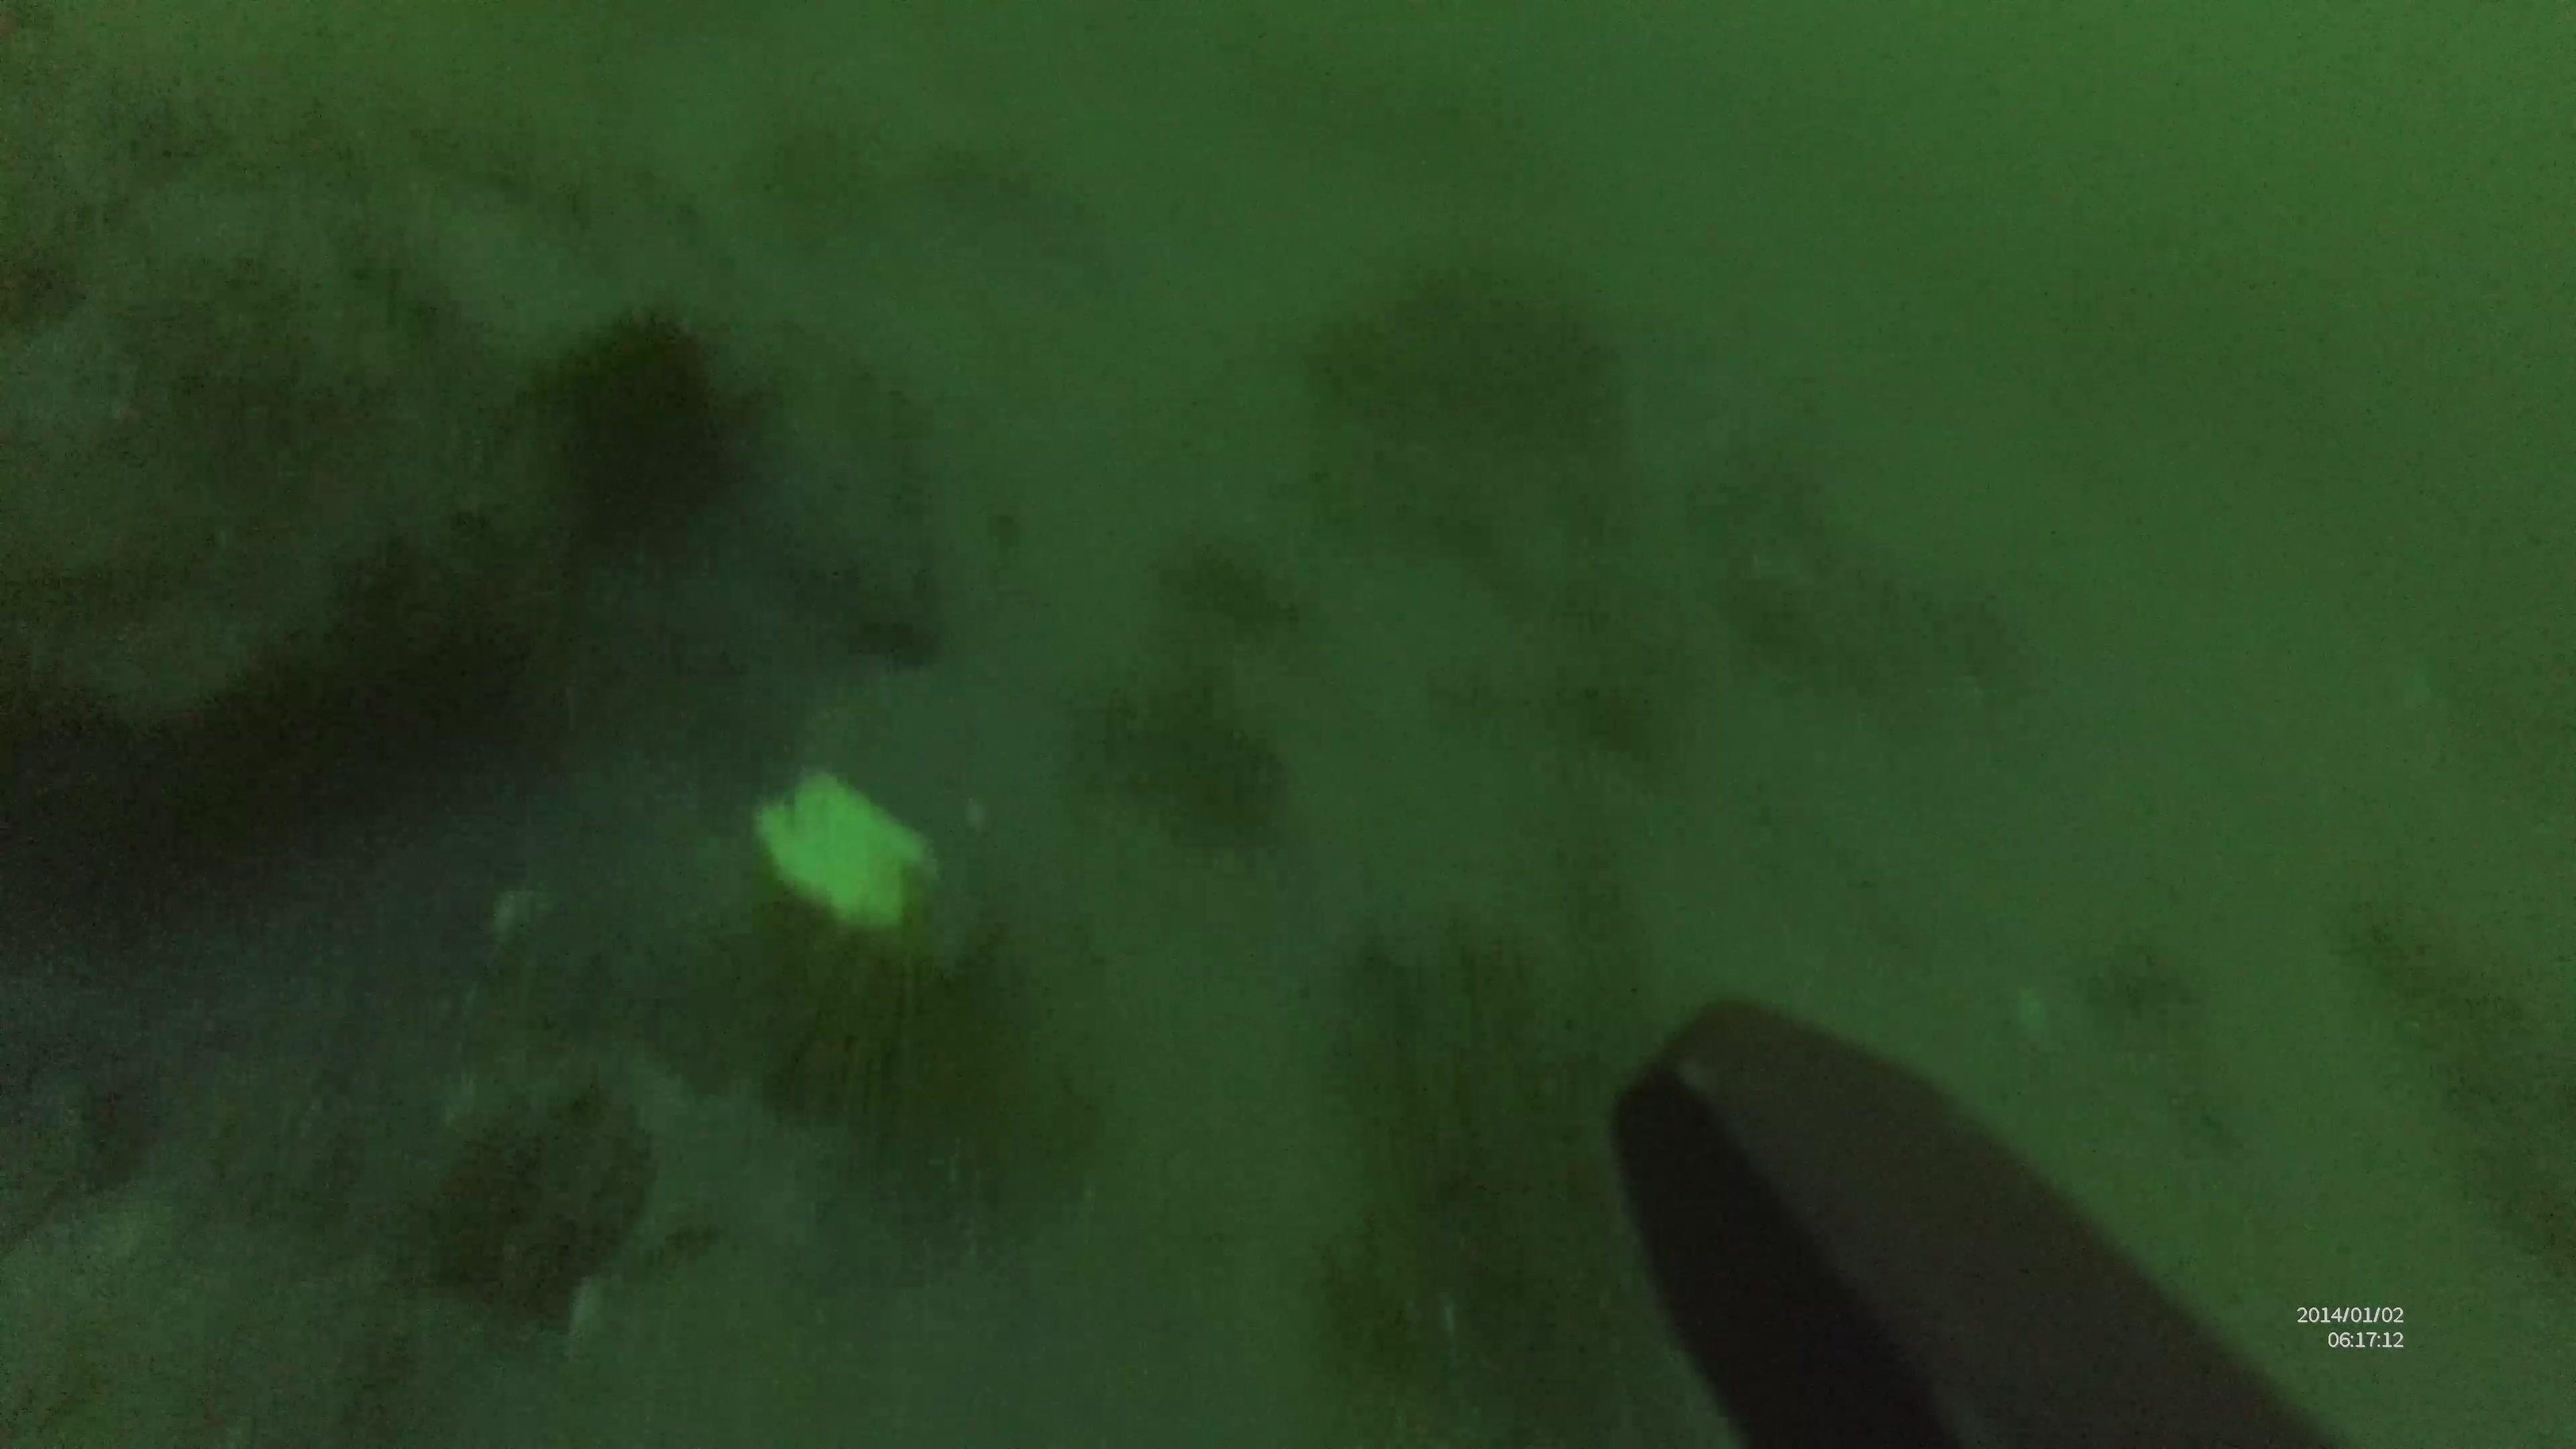echinus: (552, 308, 743, 548)
scallop: (750, 777, 948, 932)
